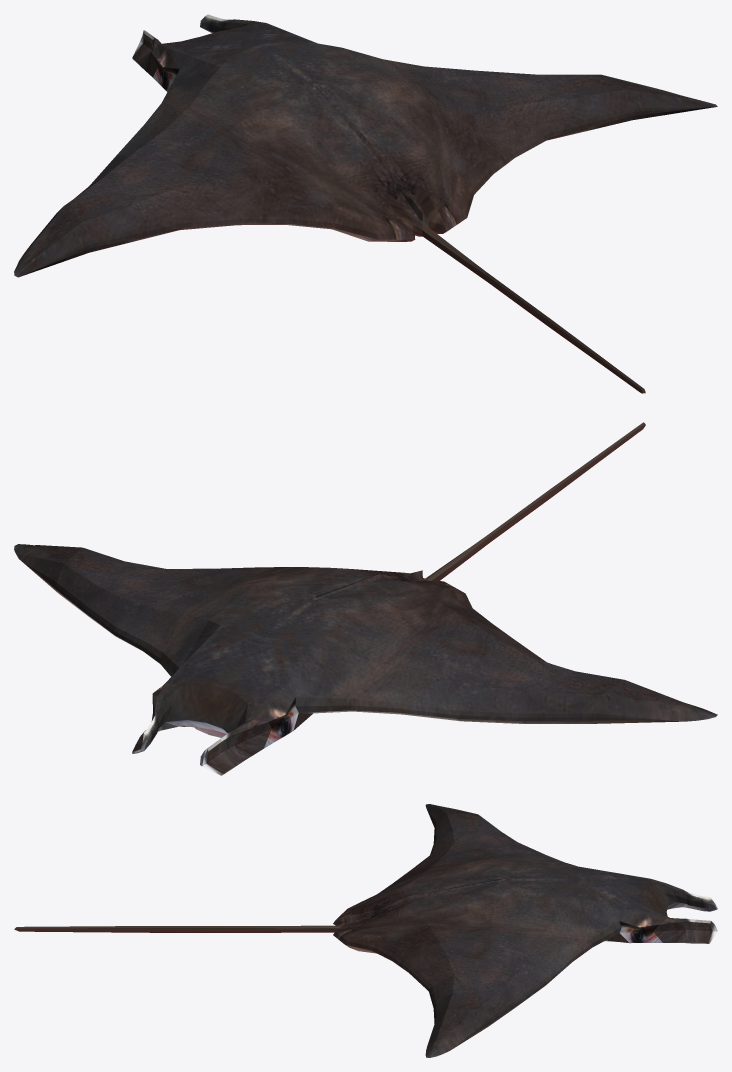
File: mobula-munkiana.glb
3 renders of one model, top to bottom at view 1: azimuth 30°, elevation 25°; view 2: azimuth 150°, elevation 25°; view 3: azimuth 270°, elevation 25°, orthographic. The views are drawn at different scales.
Visible parts, largest first — view 1: munks_devil_ray; view 2: munks_devil_ray; view 3: munks_devil_ray.
Part boxes in pixels (<box>): munks_devil_ray: <box>14,14,717,393</box>; munks_devil_ray: <box>14,422,717,775</box>; munks_devil_ray: <box>14,804,717,1057</box>.
Size of the model in its own units: 1.3 by 0.1352 by 1.52.
Materials: 3 (3 with a texture image).
